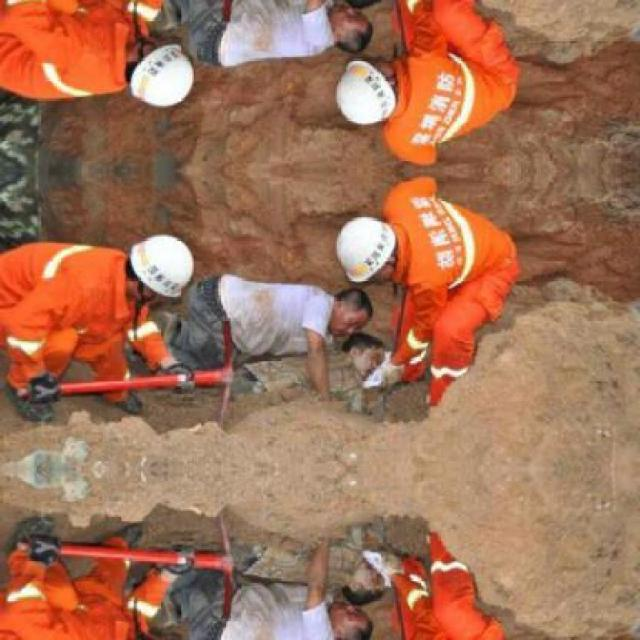Reflective-Jacket: (385, 181, 526, 354), (0, 233, 137, 384), (0, 0, 151, 108)
Safety-Helmet: (123, 226, 206, 305), (332, 48, 403, 139), (326, 209, 403, 291), (124, 36, 202, 116)
